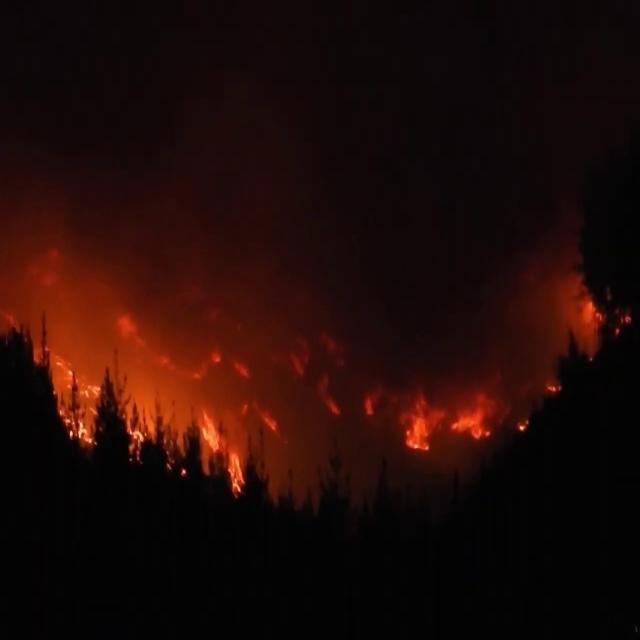Fire: (12, 253, 267, 493), (384, 378, 566, 494), (546, 260, 620, 348)
Smoke: (118, 5, 392, 222), (348, 108, 514, 351), (444, 13, 626, 218)
